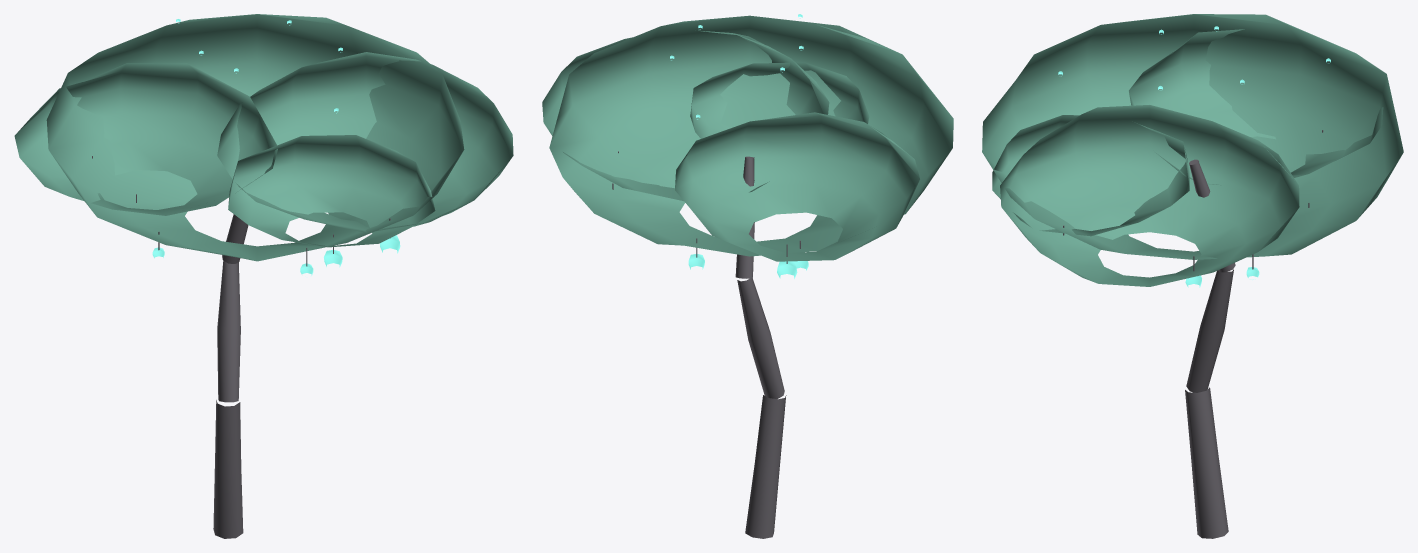
File: SM_Tree_SporeCanopy.glb
3 views of the same model, side by side, from view 1: azimuth 30°, elevation 25°; view 2: azimuth 150°, elevation 25°; view 3: azimuth 270°, elevation 25° (orthographic). The views are drawn at different scales.
Visible parts, largest first — view 1: SM_Tree_SporeCanopy; view 2: SM_Tree_SporeCanopy; view 3: SM_Tree_SporeCanopy.
Part boxes in pixels (x1,y1,x2,y2): SM_Tree_SporeCanopy: [14, 14, 513, 538]; SM_Tree_SporeCanopy: [542, 14, 953, 538]; SM_Tree_SporeCanopy: [982, 14, 1403, 538].
Size of the model in its own units: 4.88 by 5.61 by 4.31.
